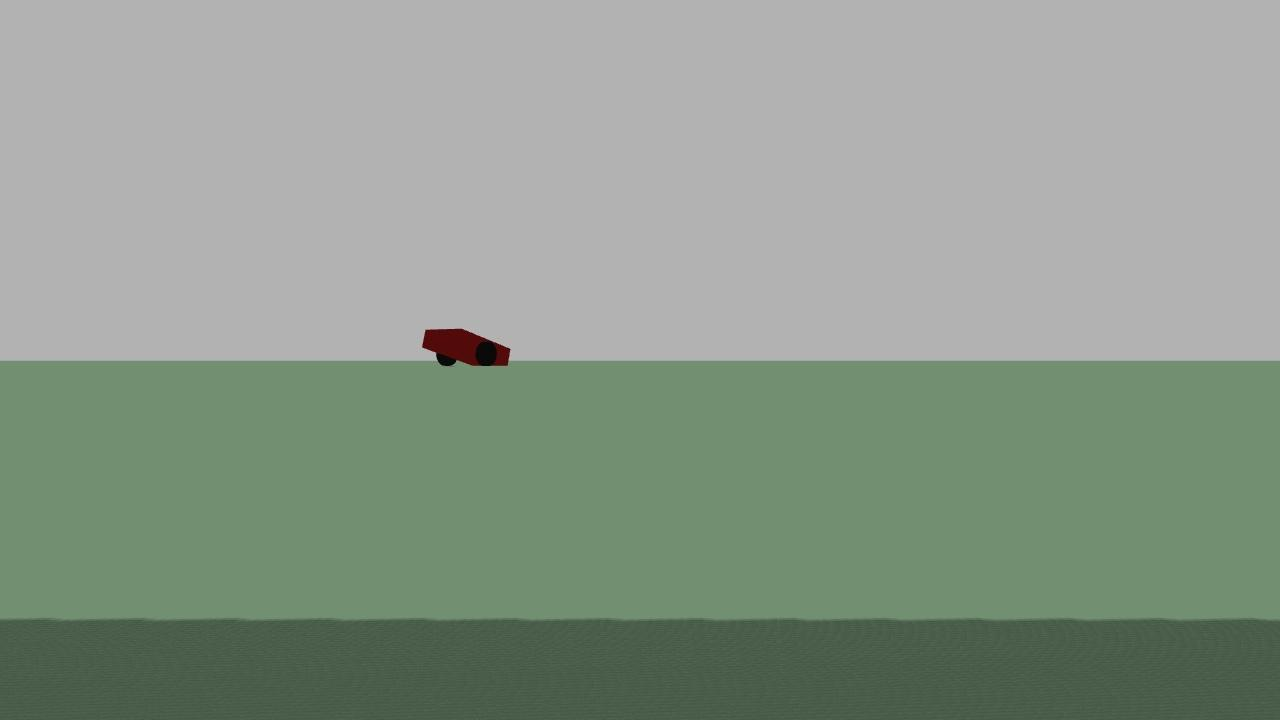ground_vehicle: (418, 318, 515, 381)
